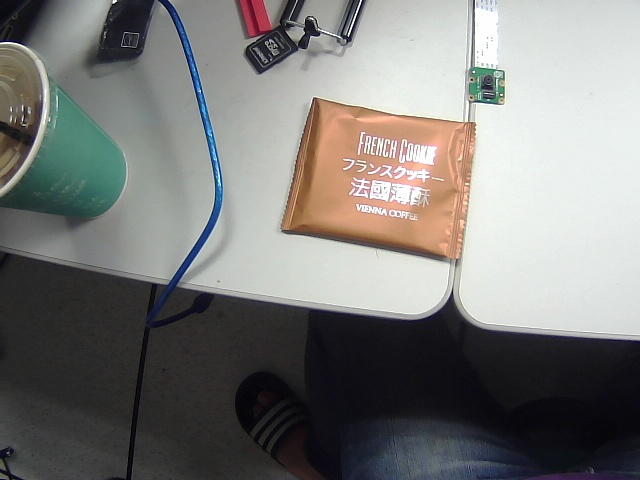frenchcookie: (271, 89, 500, 281)
